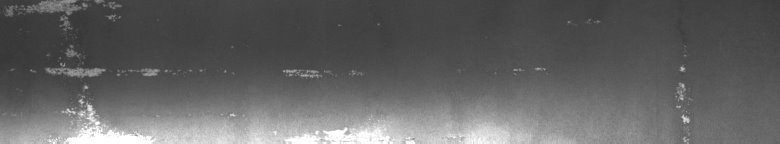kb: (4, 4, 601, 136)
